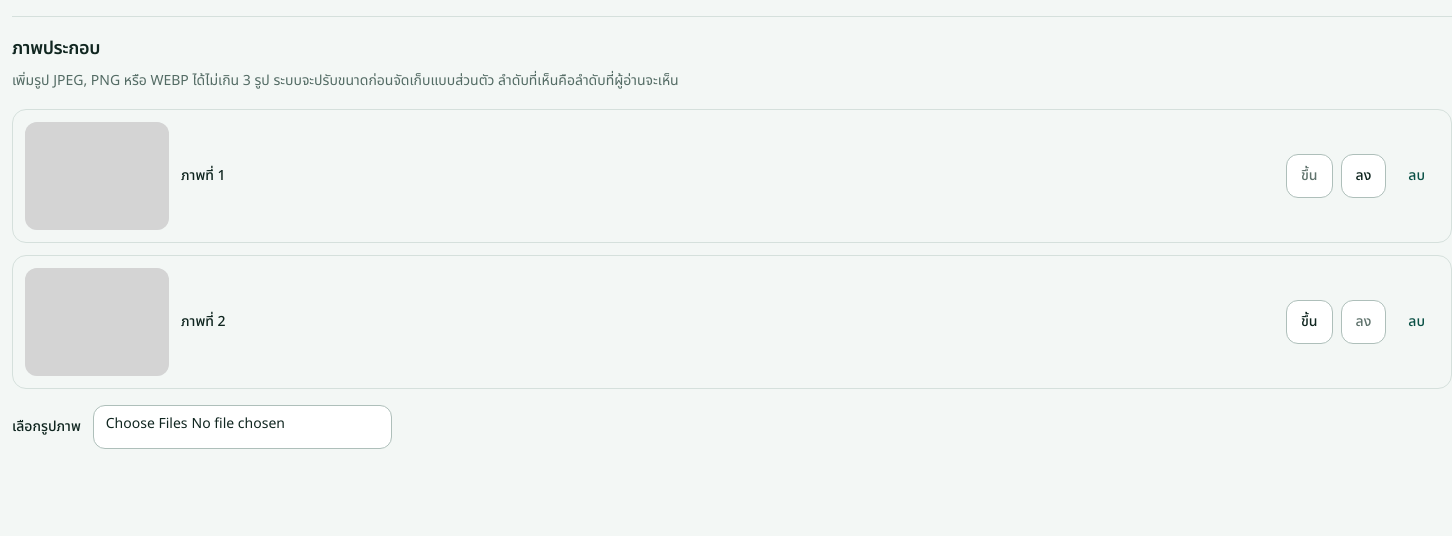
Test: Hospital content draft image manager › reloads the stored list when the outcome of a change is unknown
Click the 1st button "ลง": [1363, 176] box x1=1340 y1=154 x2=1386 y2=198
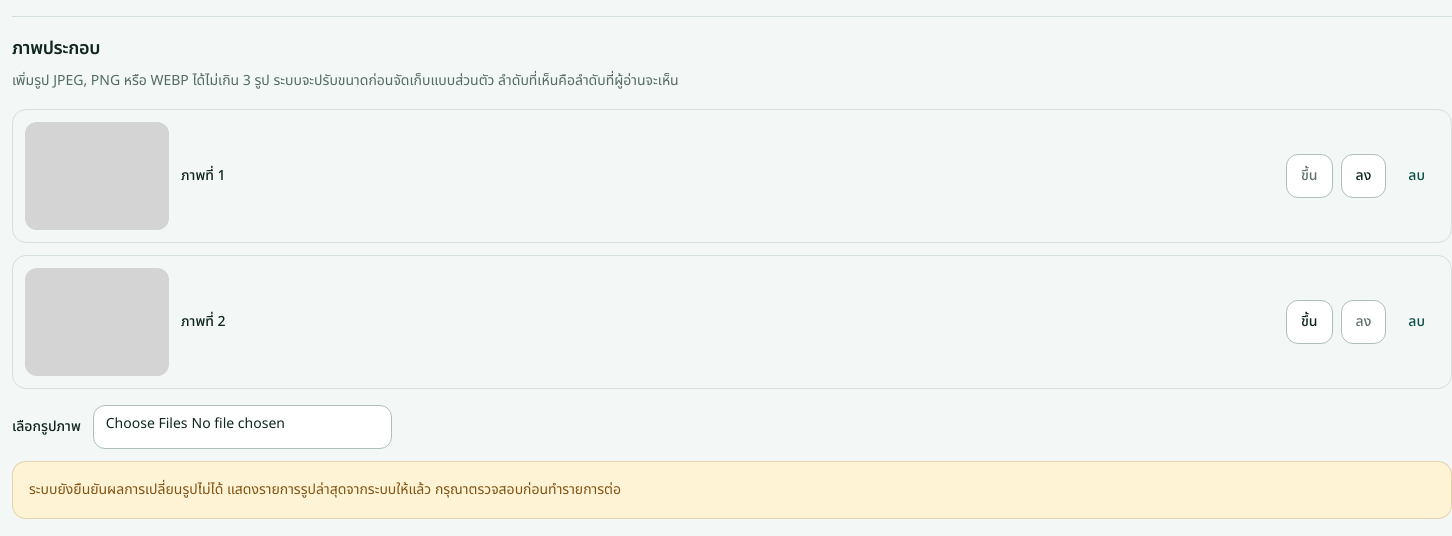
Expected: the text "ระบบยังยืนยันผลการเปลี่ยนรูปไม่ได้" is shown, x1=29 y1=479 x2=621 y2=500
